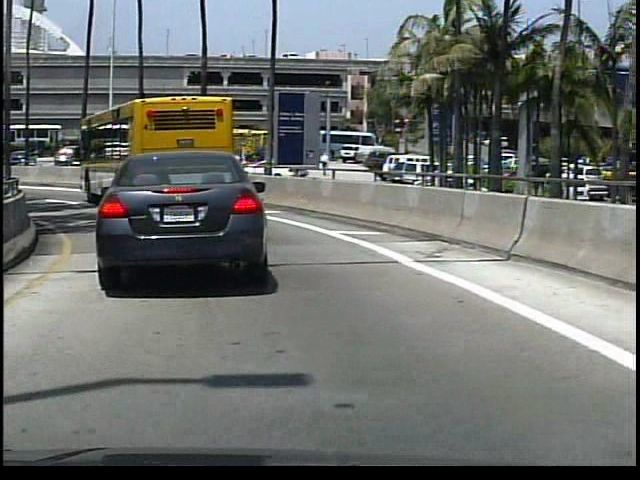person: (315, 149, 330, 180)
